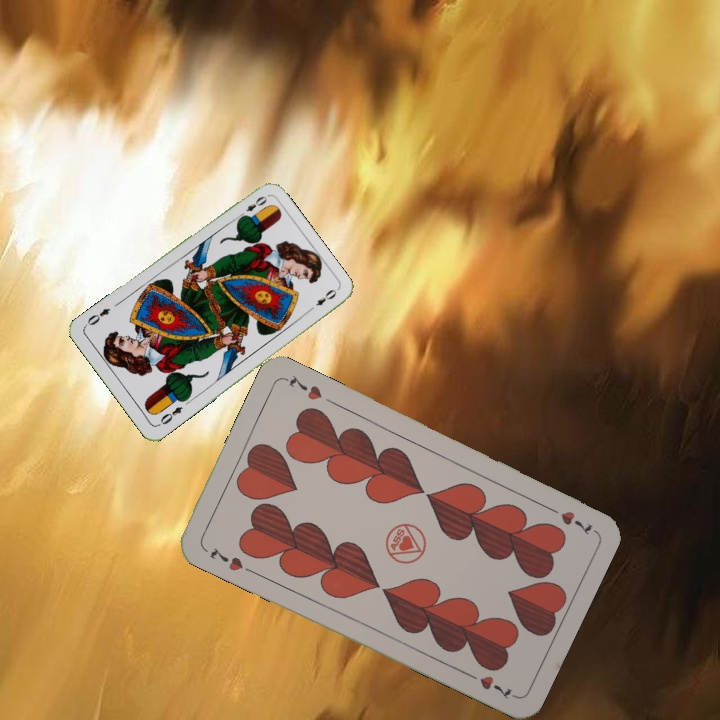EO: (234, 192, 270, 222), (154, 402, 185, 429)
H7: (542, 502, 597, 538), (206, 543, 256, 576)
